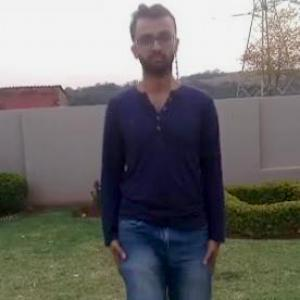follow: (96, 0, 232, 299)
